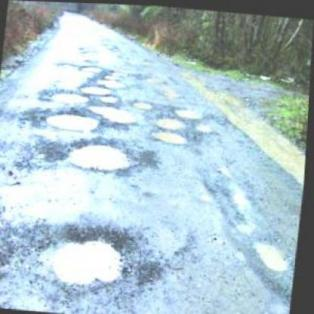Hueco: (52, 220, 140, 291), (68, 138, 135, 171), (254, 235, 296, 269), (46, 110, 104, 131), (152, 126, 192, 144), (51, 89, 92, 105), (80, 82, 115, 95), (157, 114, 186, 129), (98, 76, 127, 87), (176, 105, 204, 116), (132, 97, 156, 108), (195, 119, 216, 130), (82, 62, 104, 72)
